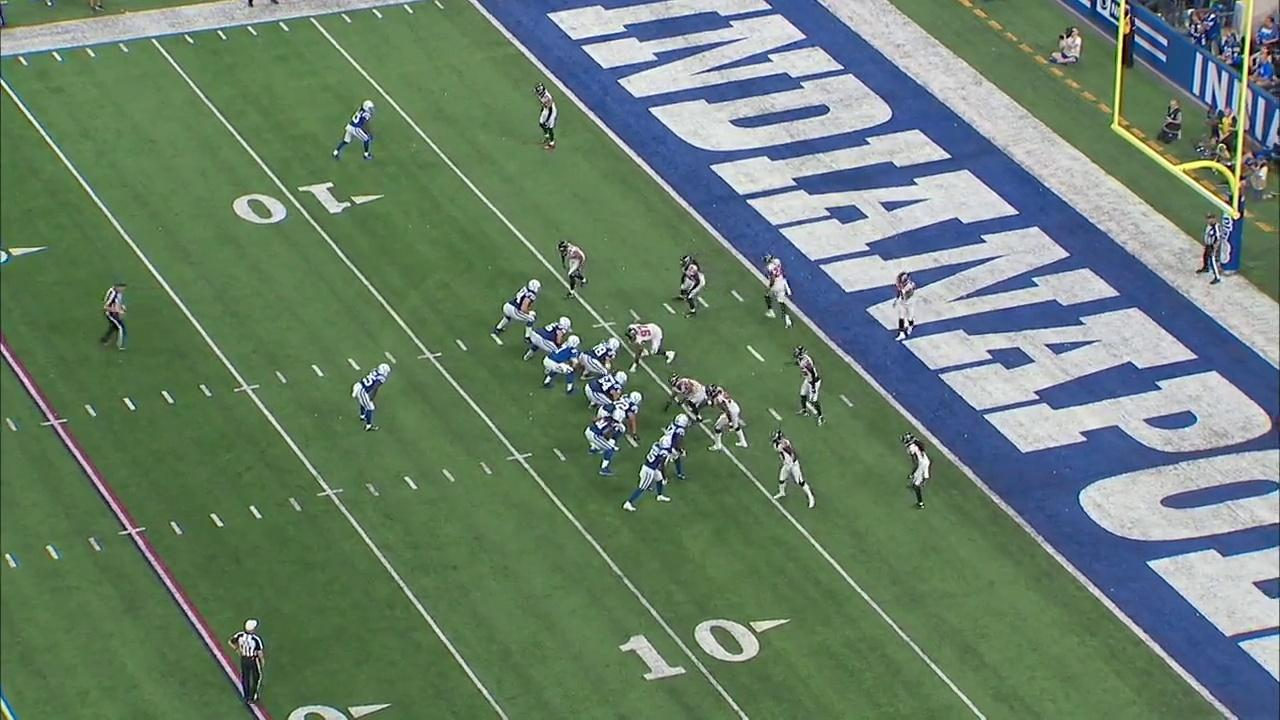player: (765, 428, 819, 511), (640, 411, 692, 494), (621, 435, 675, 514), (587, 390, 647, 455), (491, 276, 543, 344), (785, 342, 826, 427), (702, 381, 750, 453), (581, 409, 627, 477), (349, 361, 392, 433), (759, 248, 795, 332), (623, 319, 678, 373), (330, 99, 377, 162), (539, 334, 583, 395), (900, 429, 932, 512), (661, 370, 709, 425), (522, 315, 574, 365), (671, 252, 709, 319), (554, 238, 589, 302), (532, 80, 560, 153), (890, 269, 918, 342), (577, 336, 621, 382), (582, 369, 629, 411)
ref: (225, 614, 272, 711), (95, 279, 136, 355), (1194, 210, 1226, 287)
